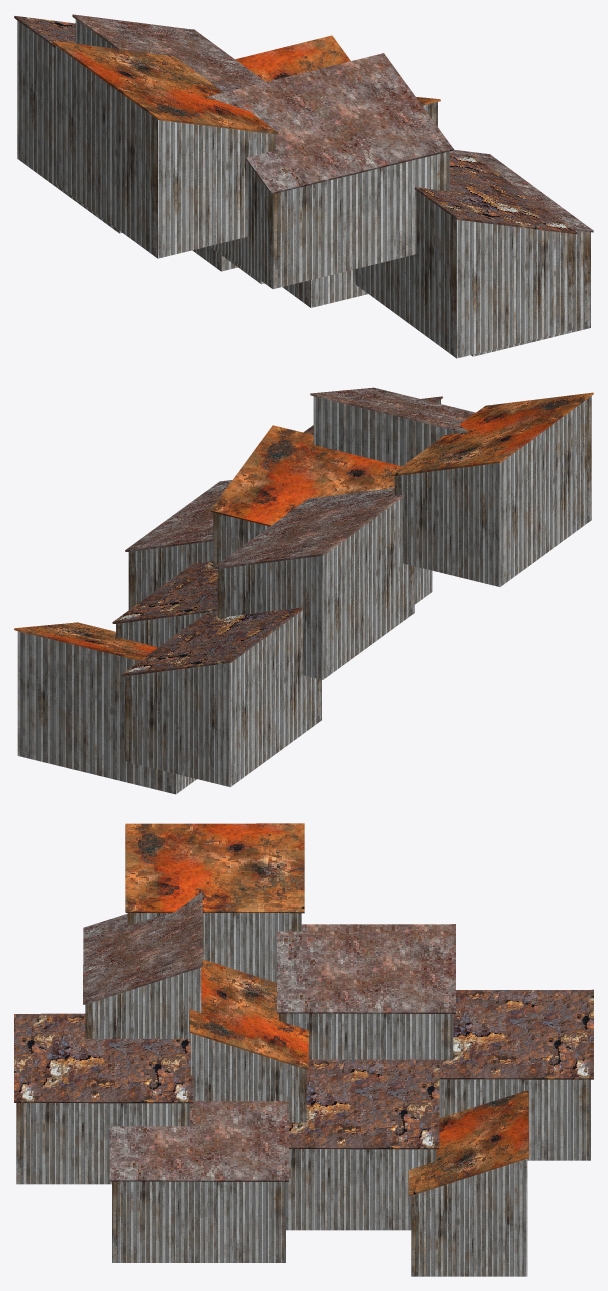
The model's file is Shantytown_section_2.glb.
3 views of the same model, one above another, from view 1: azimuth 30°, elevation 25°; view 2: azimuth 150°, elevation 25°; view 3: azimuth 270°, elevation 25° (orthographic). The views are drawn at different scales.
Parts seen in each view (by area): view 1: Cube.002; view 2: Cube.002; view 3: Cube.002.
Boxes of the visible parts, x1=… form: Cube.002: x1=14, y1=14, x2=593, y2=358; Cube.002: x1=14, y1=387, x2=593, y2=794; Cube.002: x1=14, y1=823, x2=593, y2=1276.
Bounding box in the file's own units: 65.83 × 48.89 × 90.56.
Materials: 4 (4 with a texture image).
